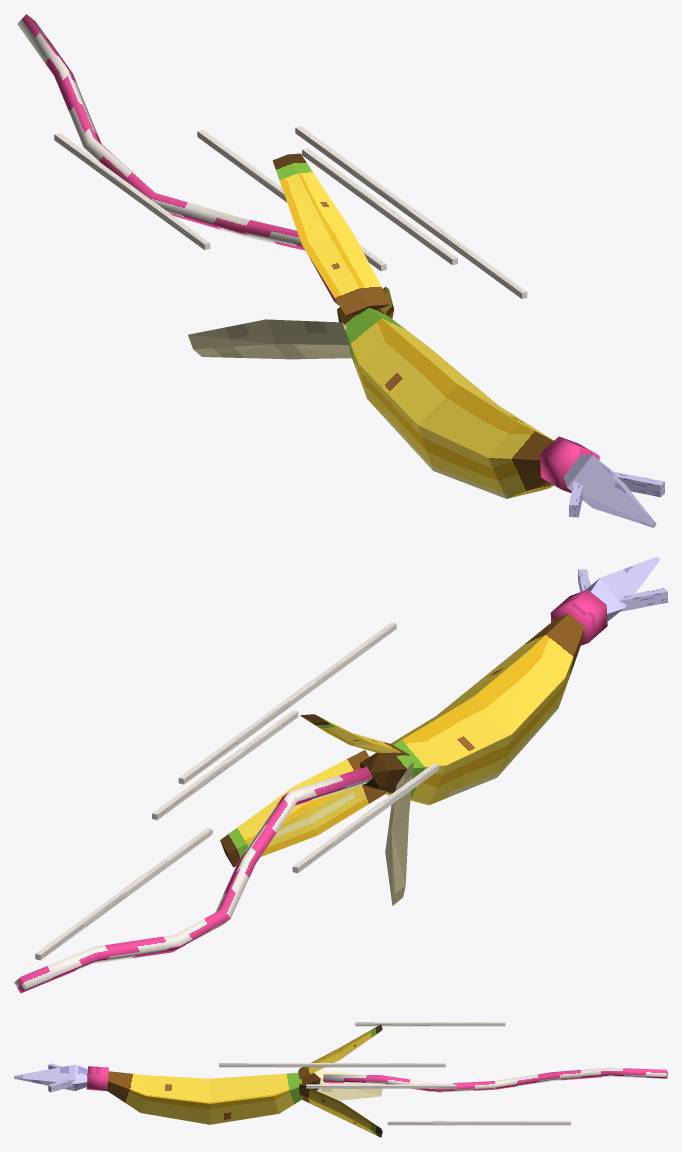
The model's file is Banana Harpoon.fbx.
3 views of the same model, one above another, from view 1: azimuth 30°, elevation 25°; view 2: azimuth 150°, elevation 25°; view 3: azimuth 270°, elevation 25° (orthographic). The views are drawn at different scales.
Parts seen in each view (by area): view 1: Banana Harpoon banana, Banana Harpoon peel 0, Banana Harpoon rope, Banana Harpoon peel 1, Banana Harpoon tip, Banana Harpoon speed line 0, Banana Harpoon speed line 2, Banana Harpoon speed line 1, Banana Harpoon collar, Banana Harpoon speed line 3; view 2: Banana Harpoon banana, Banana Harpoon rope, Banana Harpoon peel 2, Banana Harpoon speed line 0, Banana Harpoon peel 1, Banana Harpoon speed line 3, Banana Harpoon tip, Banana Harpoon speed line 1, Banana Harpoon speed line 2, Banana Harpoon collar, Banana Harpoon peel 0, Banana Harpoon barb -1; view 3: Banana Harpoon banana, Banana Harpoon rope, Banana Harpoon peel 2, Banana Harpoon speed line 0, Banana Harpoon tip, Banana Harpoon peel 1, Banana Harpoon speed line 3, Banana Harpoon peel 0, Banana Harpoon speed line 1, Banana Harpoon speed line 2, Banana Harpoon collar, Banana Harpoon barb 1.
Part boxes in pixels (x1,y1,x2,y2): Banana Harpoon banana: [337, 307, 553, 498]; Banana Harpoon peel 0: [272, 153, 390, 315]; Banana Harpoon rope: [17, 14, 339, 306]; Banana Harpoon peel 1: [188, 319, 351, 359]; Banana Harpoon tip: [563, 455, 656, 527]; Banana Harpoon speed line 0: [295, 126, 527, 298]; Banana Harpoon speed line 2: [54, 133, 210, 250]; Banana Harpoon speed line 1: [302, 148, 457, 265]; Banana Harpoon collar: [540, 436, 599, 492]; Banana Harpoon speed line 3: [197, 130, 386, 271]; Banana Harpoon banana: [360, 613, 584, 805]; Banana Harpoon rope: [14, 766, 372, 993]; Banana Harpoon peel 2: [220, 750, 386, 867]; Banana Harpoon speed line 0: [178, 622, 396, 784]; Banana Harpoon peel 1: [385, 762, 413, 905]; Banana Harpoon speed line 3: [35, 827, 212, 960]; Banana Harpoon tip: [584, 556, 659, 621]; Banana Harpoon speed line 1: [152, 710, 298, 820]; Banana Harpoon speed line 2: [292, 763, 438, 873]; Banana Harpoon collar: [550, 589, 607, 645]; Banana Harpoon peel 0: [300, 714, 409, 755]; Banana Harpoon barb -1: [619, 588, 667, 611]; Banana Harpoon banana: [107, 1071, 320, 1124]; Banana Harpoon rope: [323, 1067, 667, 1092]; Banana Harpoon peel 2: [299, 1084, 382, 1137]; Banana Harpoon speed line 0: [219, 1063, 445, 1067]; Banana Harpoon tip: [14, 1064, 87, 1090]; Banana Harpoon peel 1: [314, 1071, 382, 1100]; Banana Harpoon speed line 3: [387, 1121, 570, 1125]; Banana Harpoon peel 0: [298, 1024, 382, 1079]; Banana Harpoon speed line 1: [306, 1084, 456, 1088]; Banana Harpoon speed line 2: [355, 1022, 505, 1026]; Banana Harpoon collar: [86, 1066, 108, 1090]; Banana Harpoon barb 1: [48, 1079, 73, 1092].
Bounding box in the file's own units: 0.1516 × 0.1257 × 0.8012.
6 materials, 6 textured.
